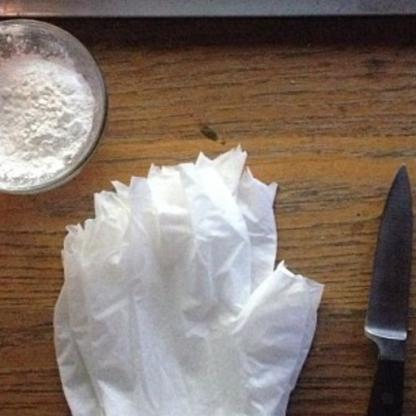knife: (357, 164, 415, 415)
